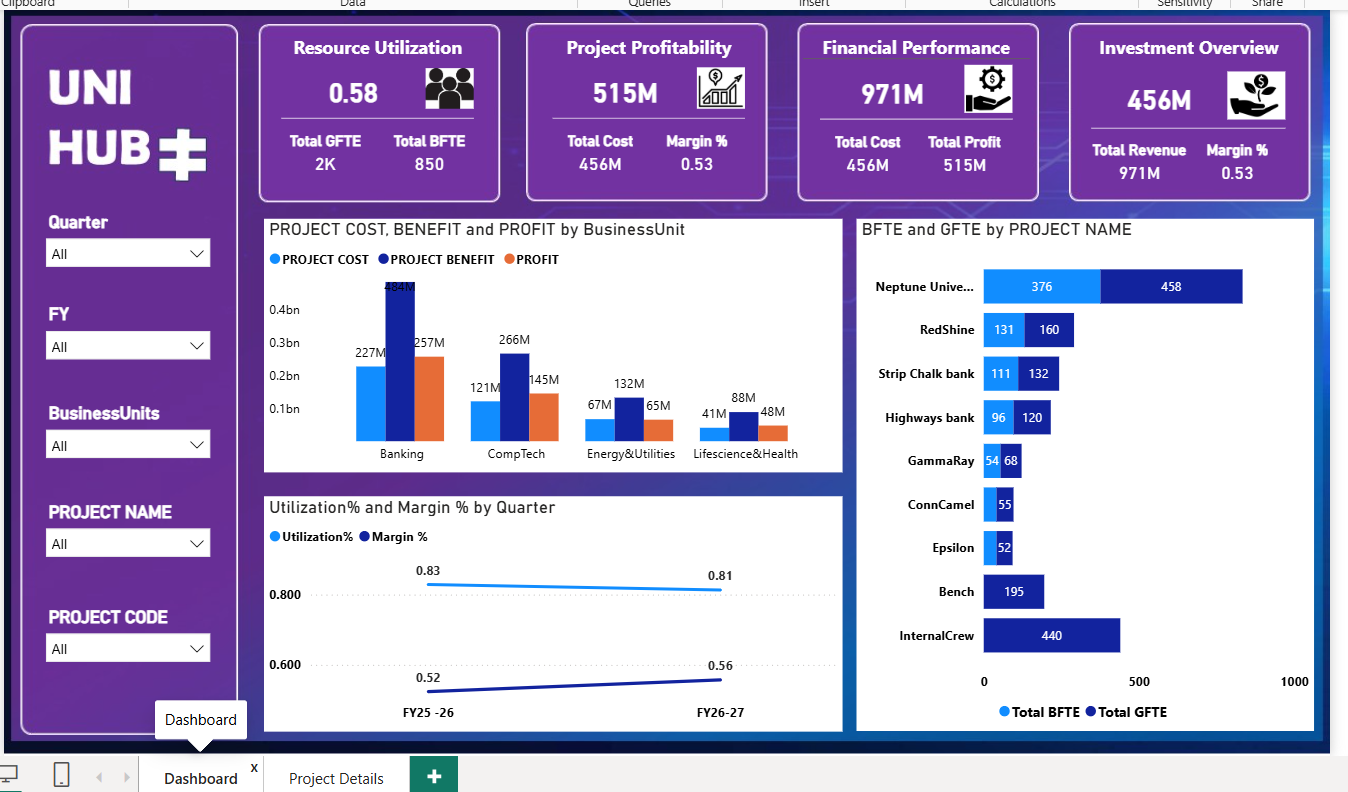

Layout of this report page (visuals, bound fields, positions):
{"tool":"powerbi","page":{"name":"Dashboard","canvas":[1280,720],"ordinal":0},"visuals":[{"type":"cardVisual","fields":{"Data":["ProjectTracker.Average Utilization"]},"box":[250.9,19.3,219.6,160.5],"z":0},{"type":"cardVisual","fields":{"Data":["ProjectTracker.Total Revenue"]},"box":[770.9,19.3,219,160.5],"z":1000},{"type":"cardVisual","fields":{"Data":["ProjectTracker.Total Cost"]},"box":[1032.7,19.3,222,160.5],"z":2000},{"type":"cardVisual","fields":{"Data":["ProjectTracker.Total Profit"]},"box":[512.7,19.3,219.6,160.5],"z":3000},{"type":"slicer","fields":{"Values":["ProjectTracker.FY"]},"box":[30.2,278.7,178.6,72.4],"z":4000},{"type":"slicer","fields":{"Values":["ProjectTracker.BusinessUnits"]},"box":[30.2,374,178.6,72.4],"z":5000},{"type":"slicer","fields":{"Values":["ProjectTracker.PROJECT NAME"]},"box":[30.2,469.3,178.6,72.4],"z":6000},{"type":"slicer","fields":{"Values":["ProjectTracker.PROJECT CODE"]},"box":[30.2,570.6,178.6,72.4],"z":7000},{"type":"clusteredColumnChart","title":"PROJECT COST, BENEFIT  and PROFIT by SBU","fields":{"Category":["ProjectTracker.SBU"],"Y":["Sum(ProjectTracker. PROJECT COST )","Sum(ProjectTracker. PROJECT BENEFIT )","Sum(ProjectTracker.PROFIT)"]},"box":[250.9,201.5,558.6,244.9],"z":8000},{"type":"lineChart","title":"Utilization% and Margin % by Quarter","fields":{"Y":["ProjectTracker.Utilization%","ProjectTracker.Margin %"],"Category":["ProjectTracker.Time Hierarchy.FY","ProjectTracker.Time Hierarchy.Quarter"]},"box":[250.9,469.3,558.6,226.8],"z":9000},{"type":"barChart","title":"BFTE and GFTE by PROJECT NAME","fields":{"Category":["ProjectTracker.PROJECT NAME"],"Y":["ProjectTracker.Total BFTE","ProjectTracker.Total GFTE"]},"box":[822.8,201.5,441.6,494.6],"z":10000},{"type":"slicer","fields":{"Values":["ProjectTracker.Quarter"]},"box":[30.2,189.4,178.6,72.4],"z":11000}]}

Visuals, with their boxes on the page's 1280x720 design canvas (x1, y1, x2, y2). These are canvas units, not pixel positions in the 1348x792 screenshot, which may show the page scaled, cropped or inside an application window:
cardVisual - ProjectTracker.Average Utilization: bbox=(251, 19, 470, 180)
cardVisual - ProjectTracker.Total Revenue: bbox=(771, 19, 990, 180)
cardVisual - ProjectTracker.Total Cost: bbox=(1033, 19, 1255, 180)
cardVisual - ProjectTracker.Total Profit: bbox=(513, 19, 732, 180)
slicer - ProjectTracker.FY: bbox=(30, 279, 209, 351)
slicer - ProjectTracker.BusinessUnits: bbox=(30, 374, 209, 446)
slicer - ProjectTracker.PROJECT NAME: bbox=(30, 469, 209, 542)
slicer - ProjectTracker.PROJECT CODE: bbox=(30, 571, 209, 643)
"PROJECT COST, BENEFIT  and PROFIT by SBU" clusteredColumnChart: bbox=(251, 202, 810, 446)
"Utilization% and Margin % by Quarter" lineChart: bbox=(251, 469, 810, 696)
"BFTE and GFTE by PROJECT NAME" barChart: bbox=(823, 202, 1264, 696)
slicer - ProjectTracker.Quarter: bbox=(30, 189, 209, 262)
